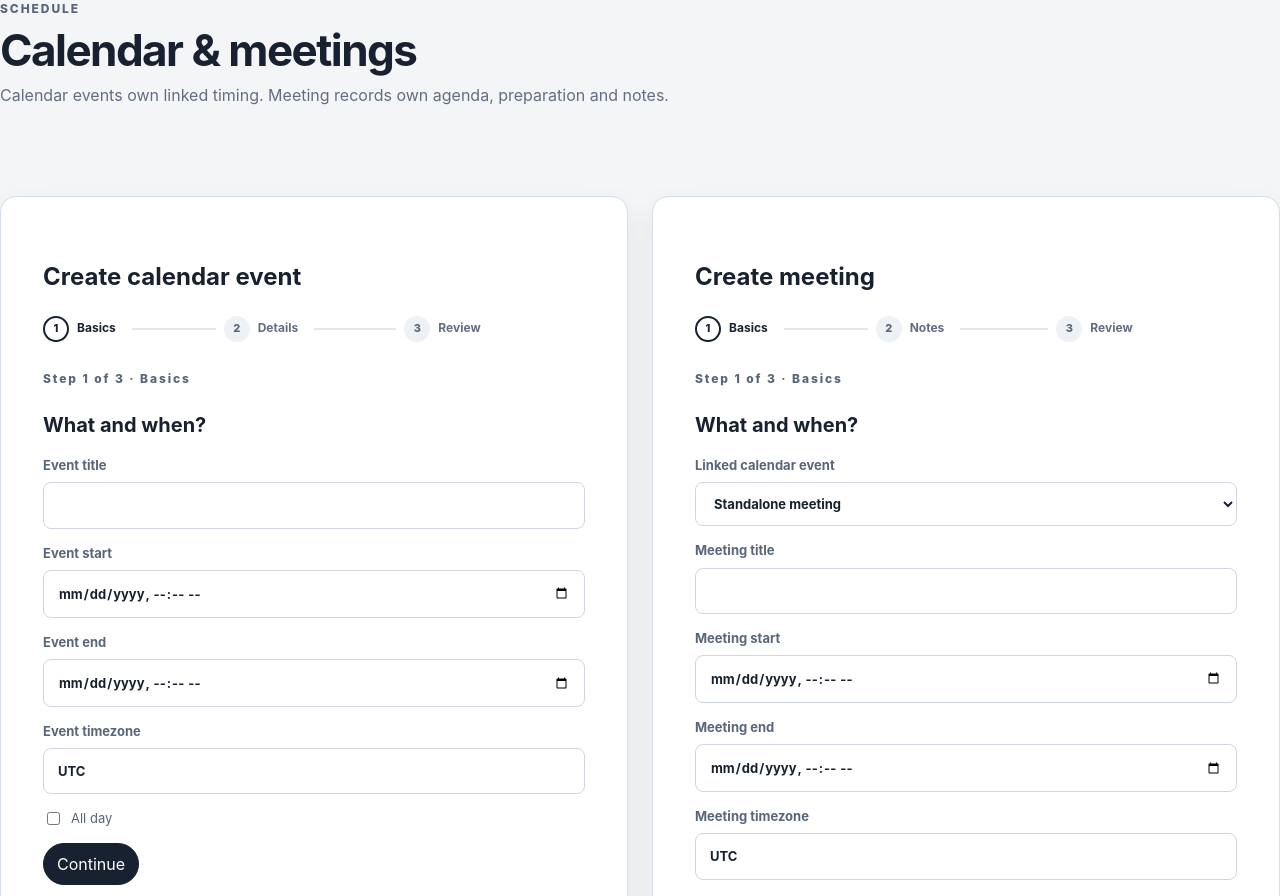
Test: ScheduleWorkspace › on failed final event submit, navigates back to Basics (where the missing title lives) and focuses it
Note: Reach Review without ever filling Event title.
Type "2026-07-20T10:00" into the field labelled "Event start" at (314, 594), box [43,570,585,618]
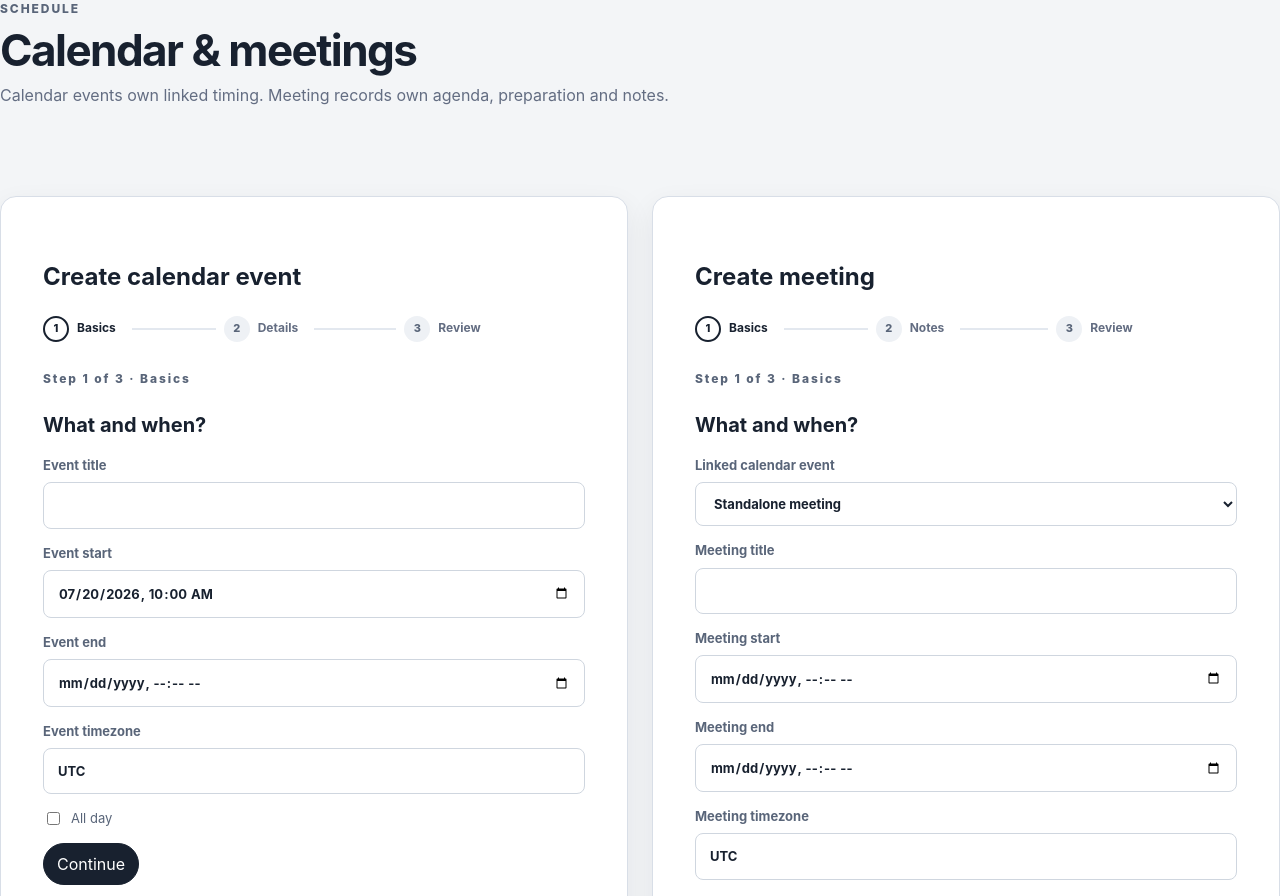
Type "2026-07-20T11:00" into the field labelled "Event end" at (314, 683), box [43,659,585,707]
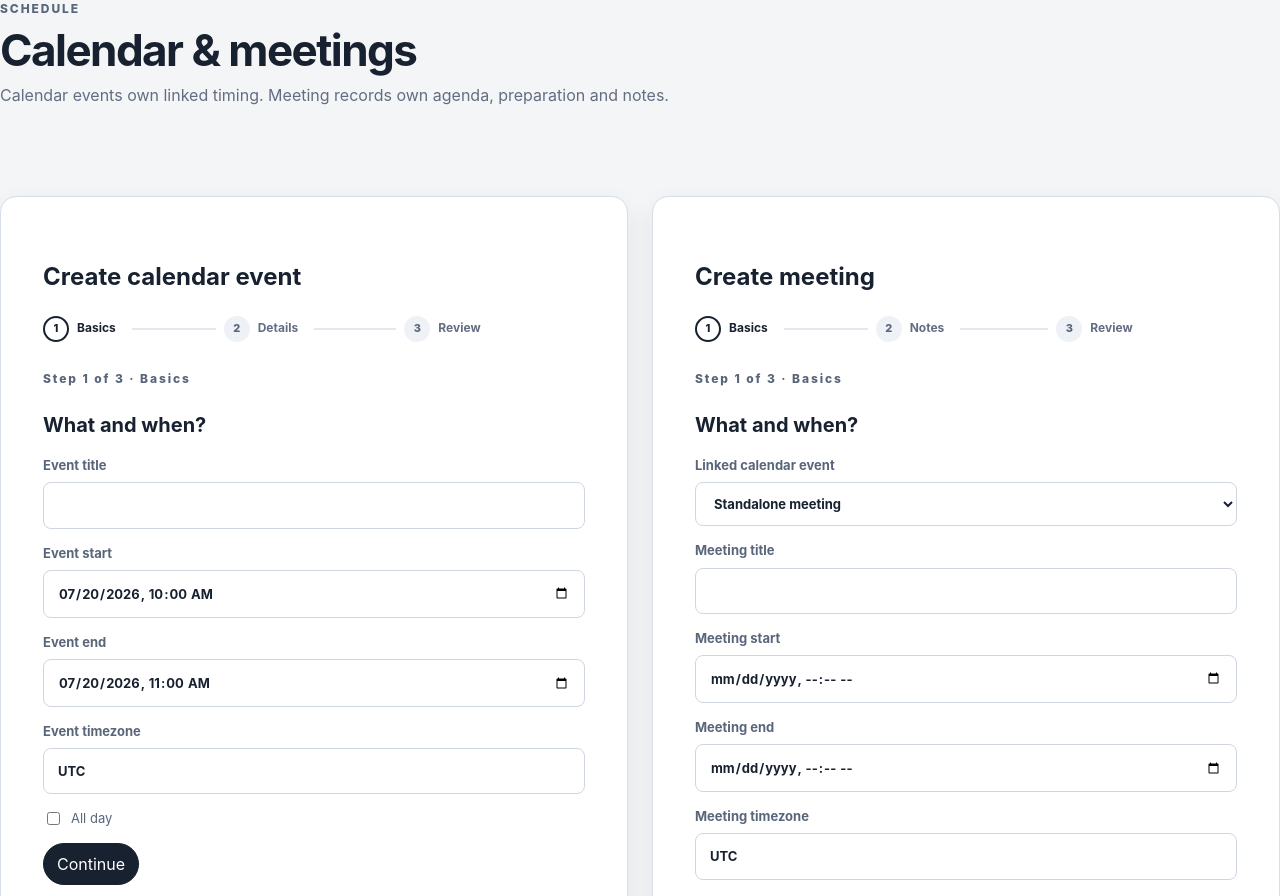
Click the button "Continue" at (91, 864), box [43,842,139,885]
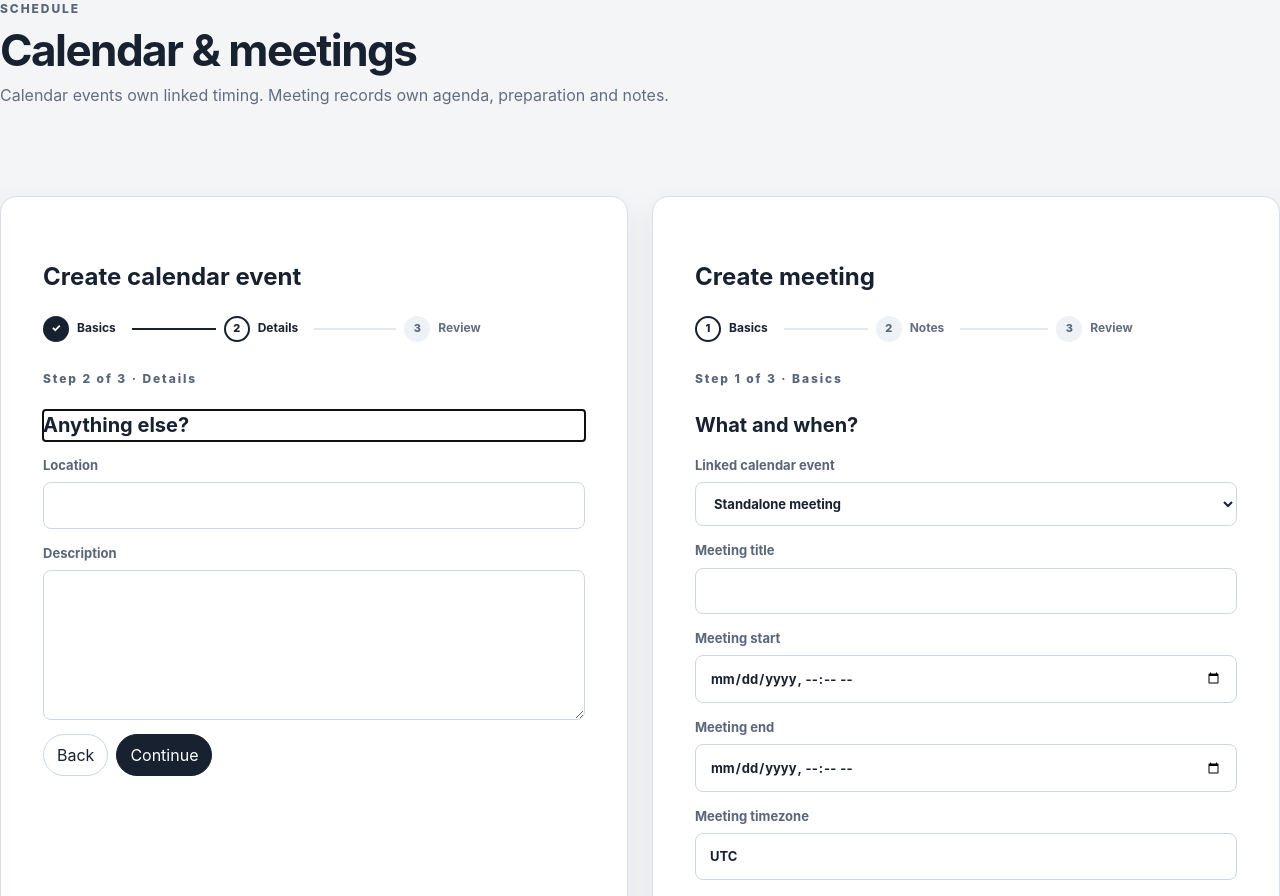
Click the button "Continue" at (164, 755), box [116,734,212,776]
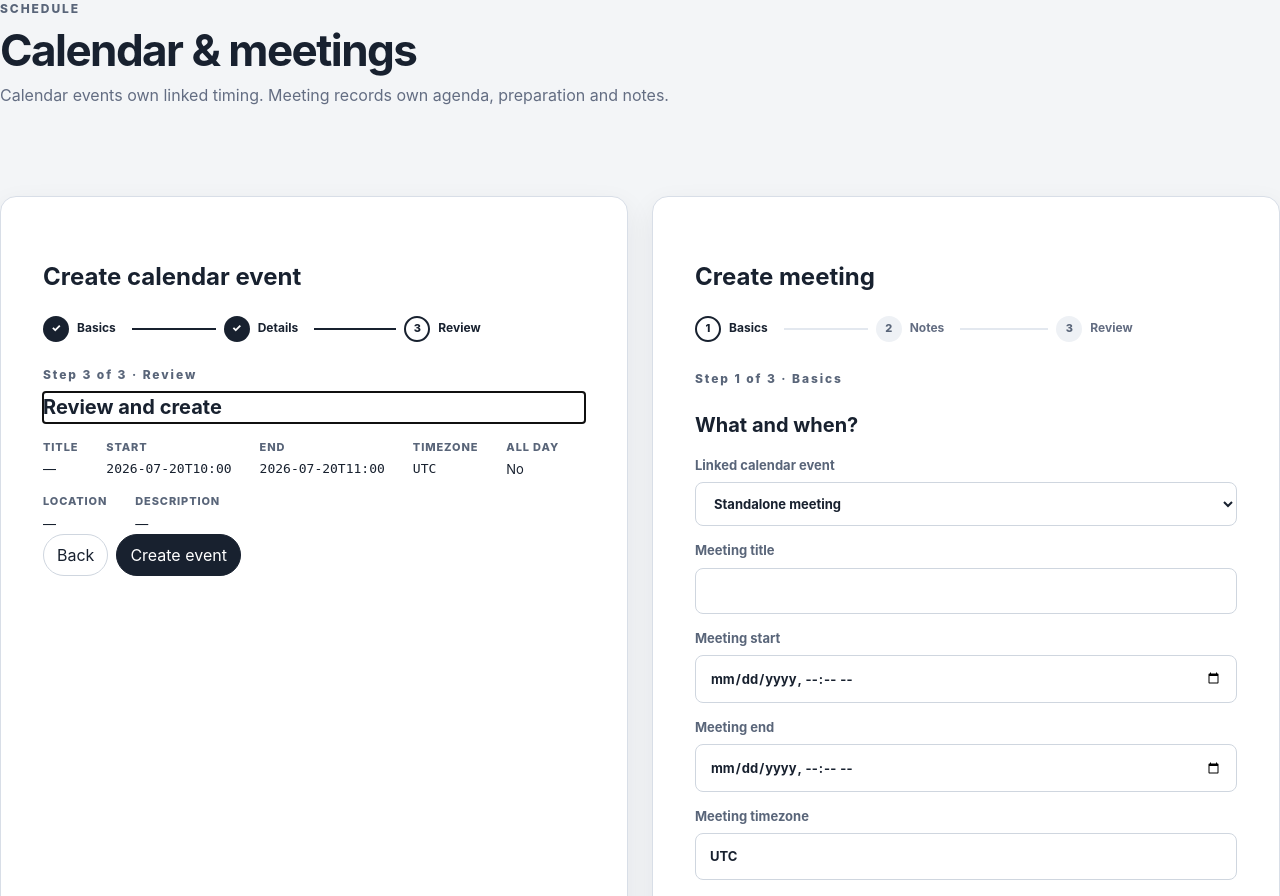
Click the button "Create event" at (179, 555), box [116,534,241,576]
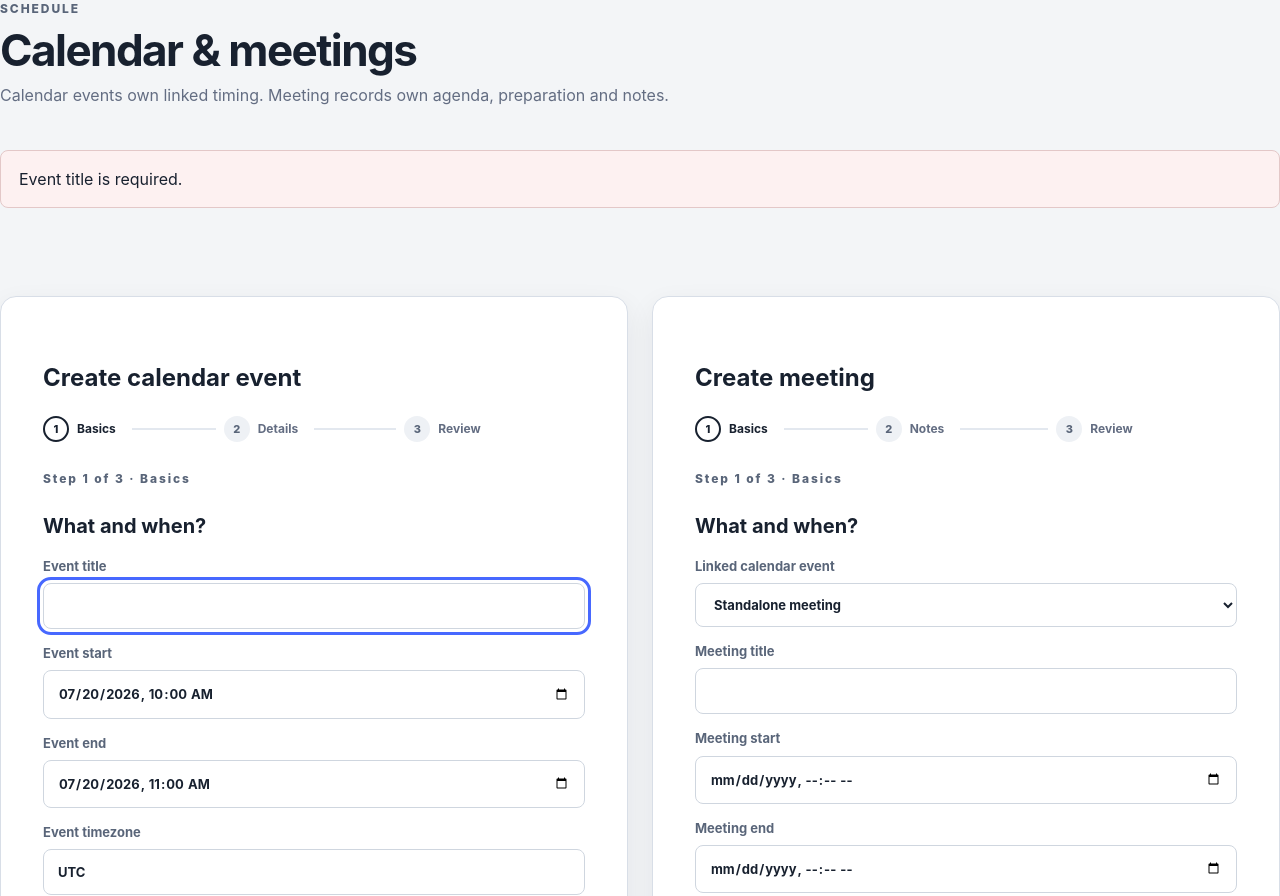
Check: the message shows "Event title is required", box [19,169,182,189]
Check: the text labelled "Location" is gone
